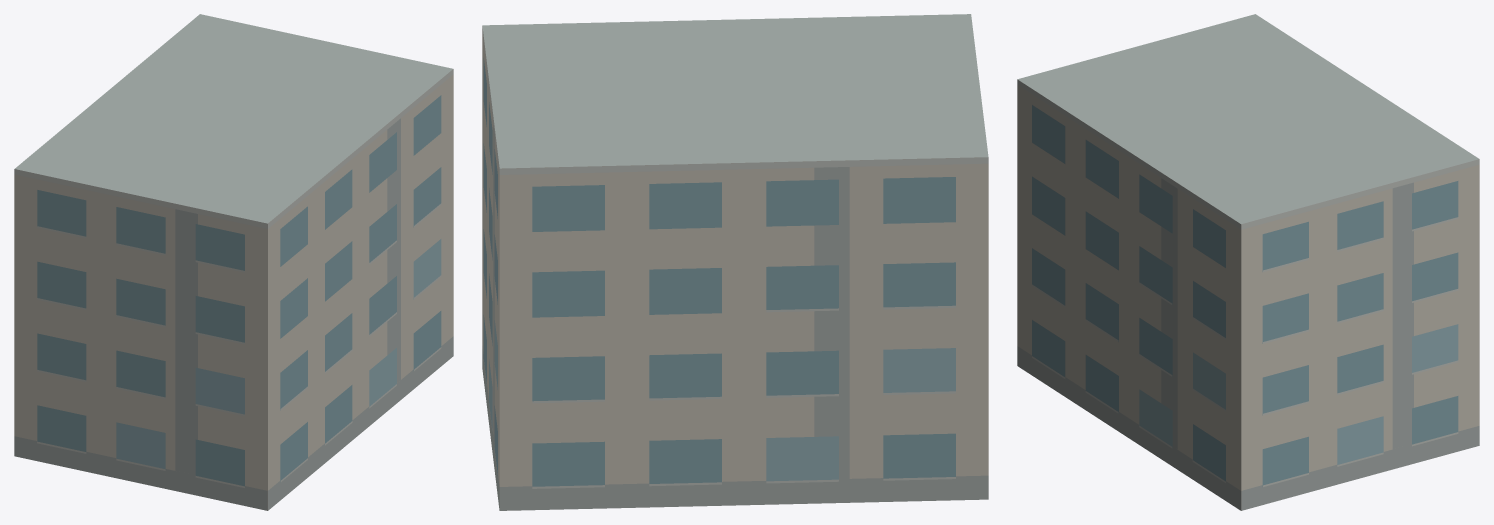
The model's file is residential-3ed6adf8-4a34-4dad-b529-90cfaef78f54.glb.
The picture shows the model from 3 angles, left to right: view 1: azimuth 30°, elevation 25°; view 2: azimuth 150°, elevation 25°; view 3: azimuth 270°, elevation 25°; orthographic projection. The views are drawn at different scales.
Parts seen in each view (by area): view 1: residential-3ed6adf8-4a34-4dad-b529-90cfaef78f54.tmp; view 2: residential-3ed6adf8-4a34-4dad-b529-90cfaef78f54.tmp; view 3: residential-3ed6adf8-4a34-4dad-b529-90cfaef78f54.tmp.
Part boxes in pixels (bbox=[...]): residential-3ed6adf8-4a34-4dad-b529-90cfaef78f54.tmp: bbox=[14, 14, 453, 510]; residential-3ed6adf8-4a34-4dad-b529-90cfaef78f54.tmp: bbox=[482, 14, 988, 510]; residential-3ed6adf8-4a34-4dad-b529-90cfaef78f54.tmp: bbox=[1017, 14, 1479, 510].
Bounding box in the file's own units: 20.15 × 12.8 × 18.72.
